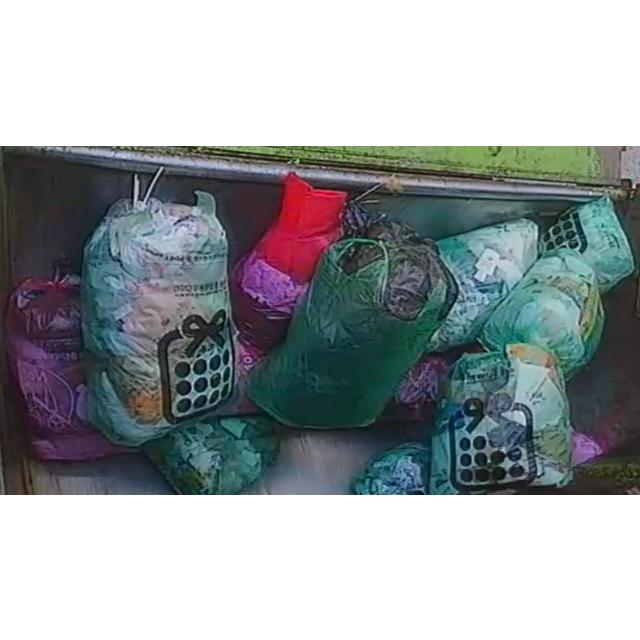general_trashbag: (249, 202, 458, 428), (81, 191, 235, 446), (430, 344, 572, 494), (480, 249, 604, 378), (428, 218, 539, 351), (144, 416, 279, 494), (540, 195, 634, 291), (352, 442, 430, 495)
other_trashbag: (8, 275, 128, 460), (236, 174, 348, 349)
